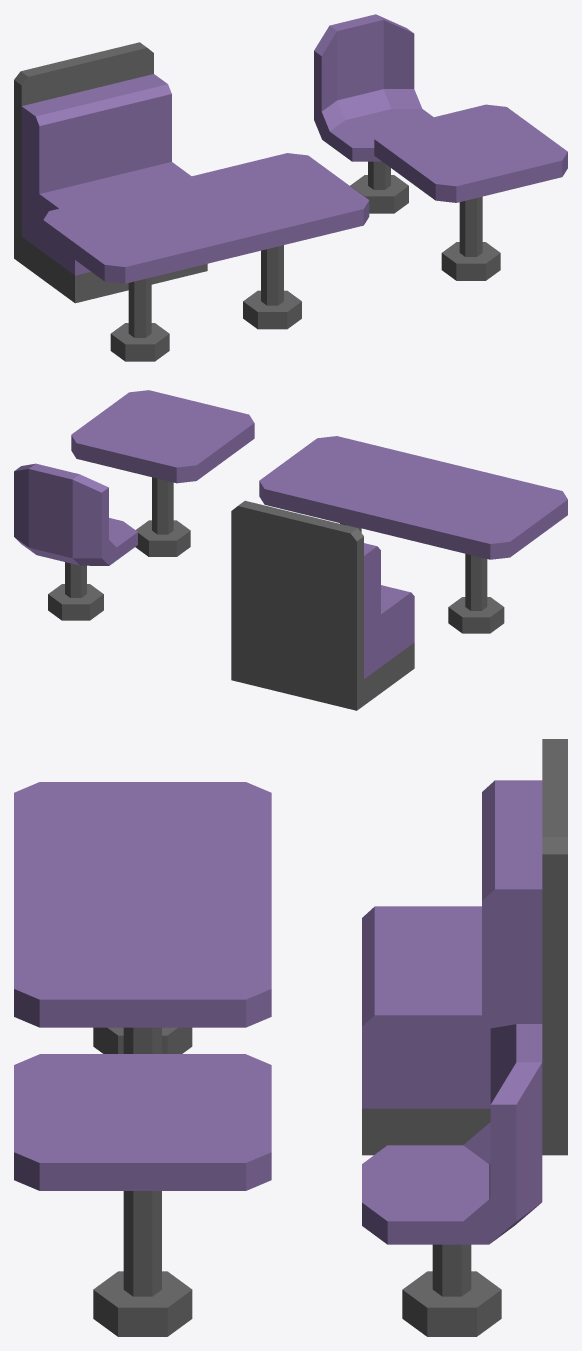
File: Seating08.fbx
The picture shows the model from 3 angles, top to bottom: view 1: azimuth 30°, elevation 25°; view 2: azimuth 150°, elevation 25°; view 3: azimuth 270°, elevation 25°; orthographic projection. The views are drawn at different scales.
Visible parts, largest first — view 1: Table_Long, Sofa, Table, Chair; view 2: Sofa, Table_Long, Table, Chair; view 3: Table_Long, Sofa, Table, Chair.
Part boxes in pixels (x1,y1,x2,y2): Table_Long: [43, 153, 369, 361]; Sofa: [14, 42, 207, 303]; Table: [374, 104, 567, 280]; Chair: [314, 14, 433, 213]; Sofa: [231, 500, 414, 710]; Table_Long: [259, 436, 567, 633]; Table: [71, 390, 254, 556]; Chair: [14, 463, 137, 620]; Table_Long: [14, 782, 271, 1053]; Sofa: [362, 739, 567, 1155]; Table: [14, 1054, 271, 1336]; Chair: [362, 1024, 542, 1336].
Bounding box in the file's own units: 3.5 × 1.34 × 2.15.
1 material, 1 textured.
